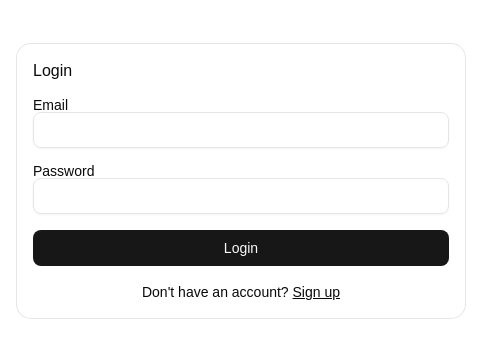
LoginPage › shows an error for the wrong password
Step 1. Type "admin123@gmail.com" into the field labelled "Email" → (241, 130), box [33,112,449,148]
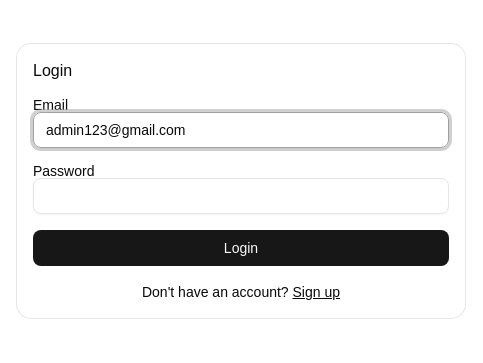
Step 2. Type "wrong-password" into the password field labelled "Password" → (241, 196), box [33,178,449,214]
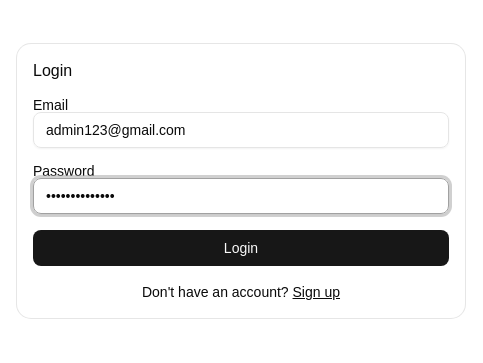
Step 3. Click the button "Login" → (241, 248), box [33,230,449,266]
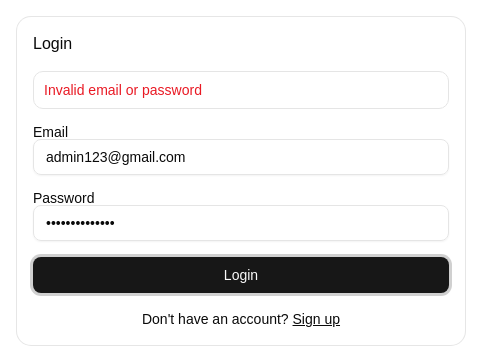
Now the text "Invalid email or password" is shown, box [44,82,202,98]
